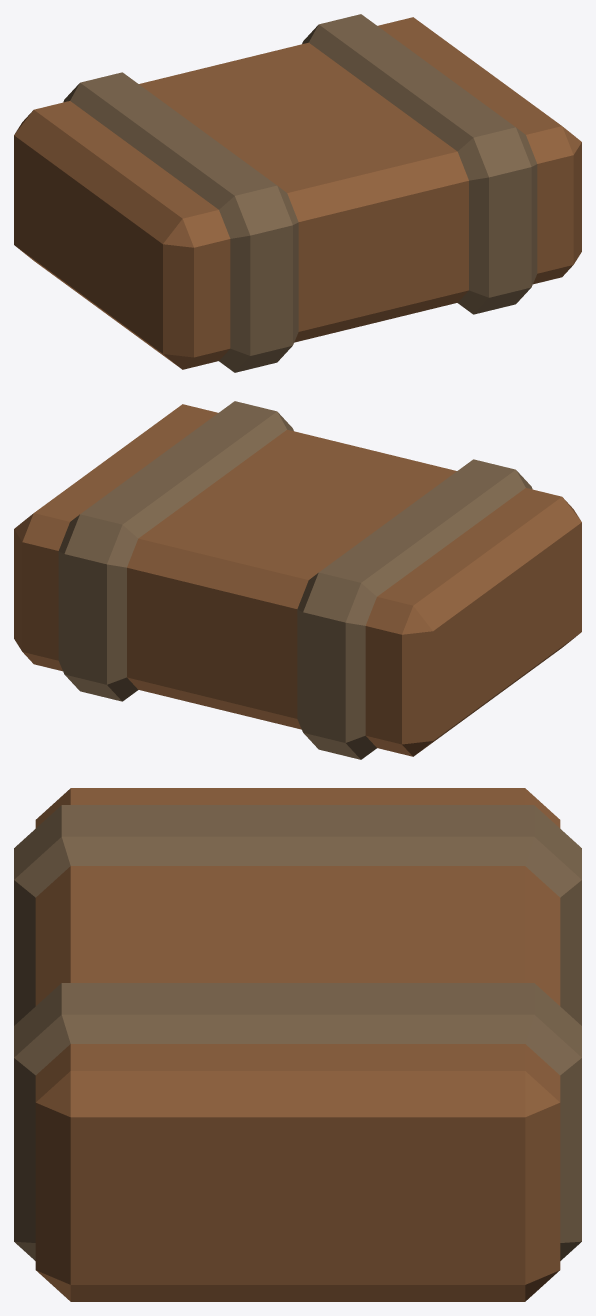
The model's file is SmallCase.fbx.
3 renders of one model, top to bottom at view 1: azimuth 30°, elevation 25°; view 2: azimuth 150°, elevation 25°; view 3: azimuth 270°, elevation 25°, orthographic. The views are drawn at different scales.
Parts seen in each view (by area): view 1: SmallCase; view 2: SmallCase; view 3: SmallCase.
Part boxes in pixels (box(x1,y1,x2,y2)): SmallCase: box(14, 14, 581, 372); SmallCase: box(14, 401, 581, 759); SmallCase: box(14, 788, 581, 1301).
Bounding box in the file's own units: 47.22 × 19.06 × 36.29.
